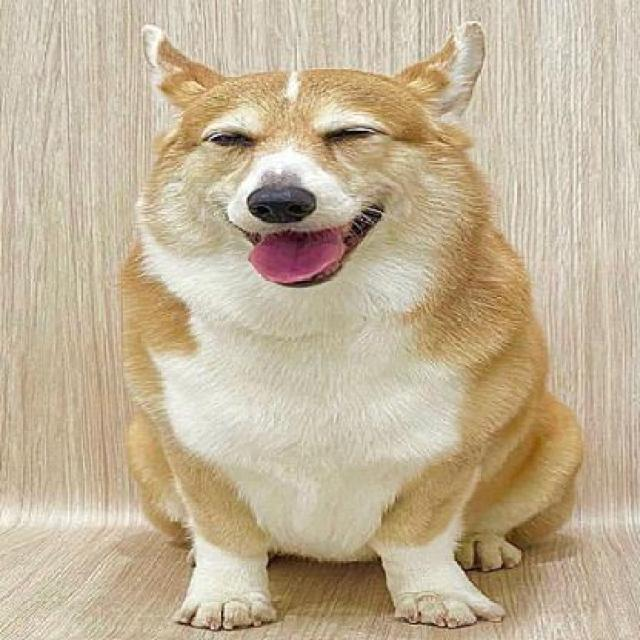Dog: (123, 4, 591, 638)
